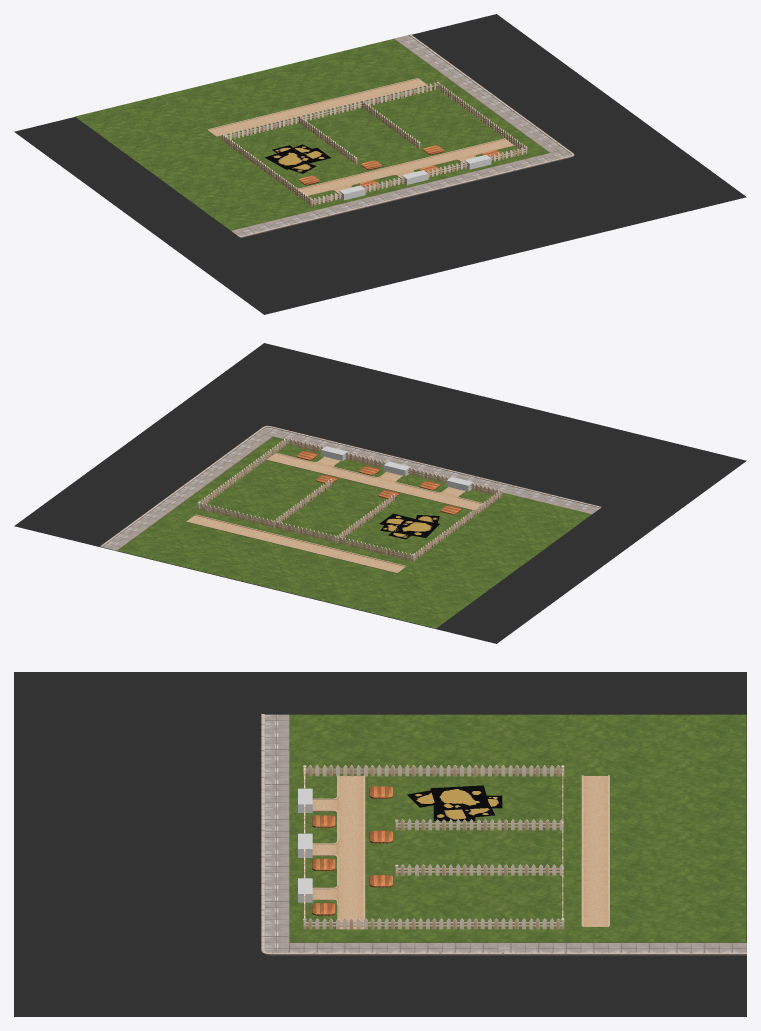
File: SM_基础场景.fbx
The picture shows the model from 3 angles, top to bottom: view 1: azimuth 30°, elevation 25°; view 2: azimuth 150°, elevation 25°; view 3: azimuth 270°, elevation 25°; orthographic projection. The views are drawn at different scales.
Visible parts, largest first — view 1: Plane003, Plane001, SM_小路1, SM_ZhaLan002, SM_小路005, SM_小路006, Plane006; view 2: Plane003, Plane001, SM_小路1, SM_ZhaLan002, SM_小路005, SM_小路006, Plane006; view 3: Plane003, Plane001, SM_小路1, SM_ZhaLan002, SM_小路005, SM_小路006, Plane006.
Boxes of the visible parts, x1=… form: Plane003: x1=14, y1=14, x2=746, y2=314; Plane001: x1=75, y1=38, x2=549, y2=230; SM_小路1: x1=231, y1=34, x2=574, y2=238; SM_ZhaLan002: x1=222, y1=82, x2=527, y2=206; SM_小路005: x1=291, y1=138, x2=514, y2=197; SM_小路006: x1=207, y1=78, x2=427, y2=136; Plane006: x1=265, y1=148, x2=315, y2=169; Plane003: x1=14, y1=343, x2=746, y2=643; Plane001: x1=117, y1=436, x2=591, y2=628; SM_小路1: x1=100, y1=425, x2=601, y2=550; SM_ZhaLan002: x1=197, y1=437, x2=502, y2=561; SM_小路005: x1=266, y1=452, x2=488, y2=511; SM_小路006: x1=186, y1=514, x2=406, y2=573; Plane006: x1=393, y1=518, x2=439, y2=537; Plane003: x1=14, y1=672, x2=746, y2=1016; Plane001: x1=289, y1=714, x2=746, y2=942; SM_小路1: x1=261, y1=714, x2=746, y2=955; SM_ZhaLan002: x1=303, y1=765, x2=564, y2=929; SM_小路005: x1=312, y1=775, x2=365, y2=929; SM_小路006: x1=581, y1=775, x2=609, y2=926; Plane006: x1=430, y1=785, x2=490, y2=810.
Bounding box in the file's own units: 83.5 × 1.32 × 74.99.
Materials: 8 (7 with a texture image).
